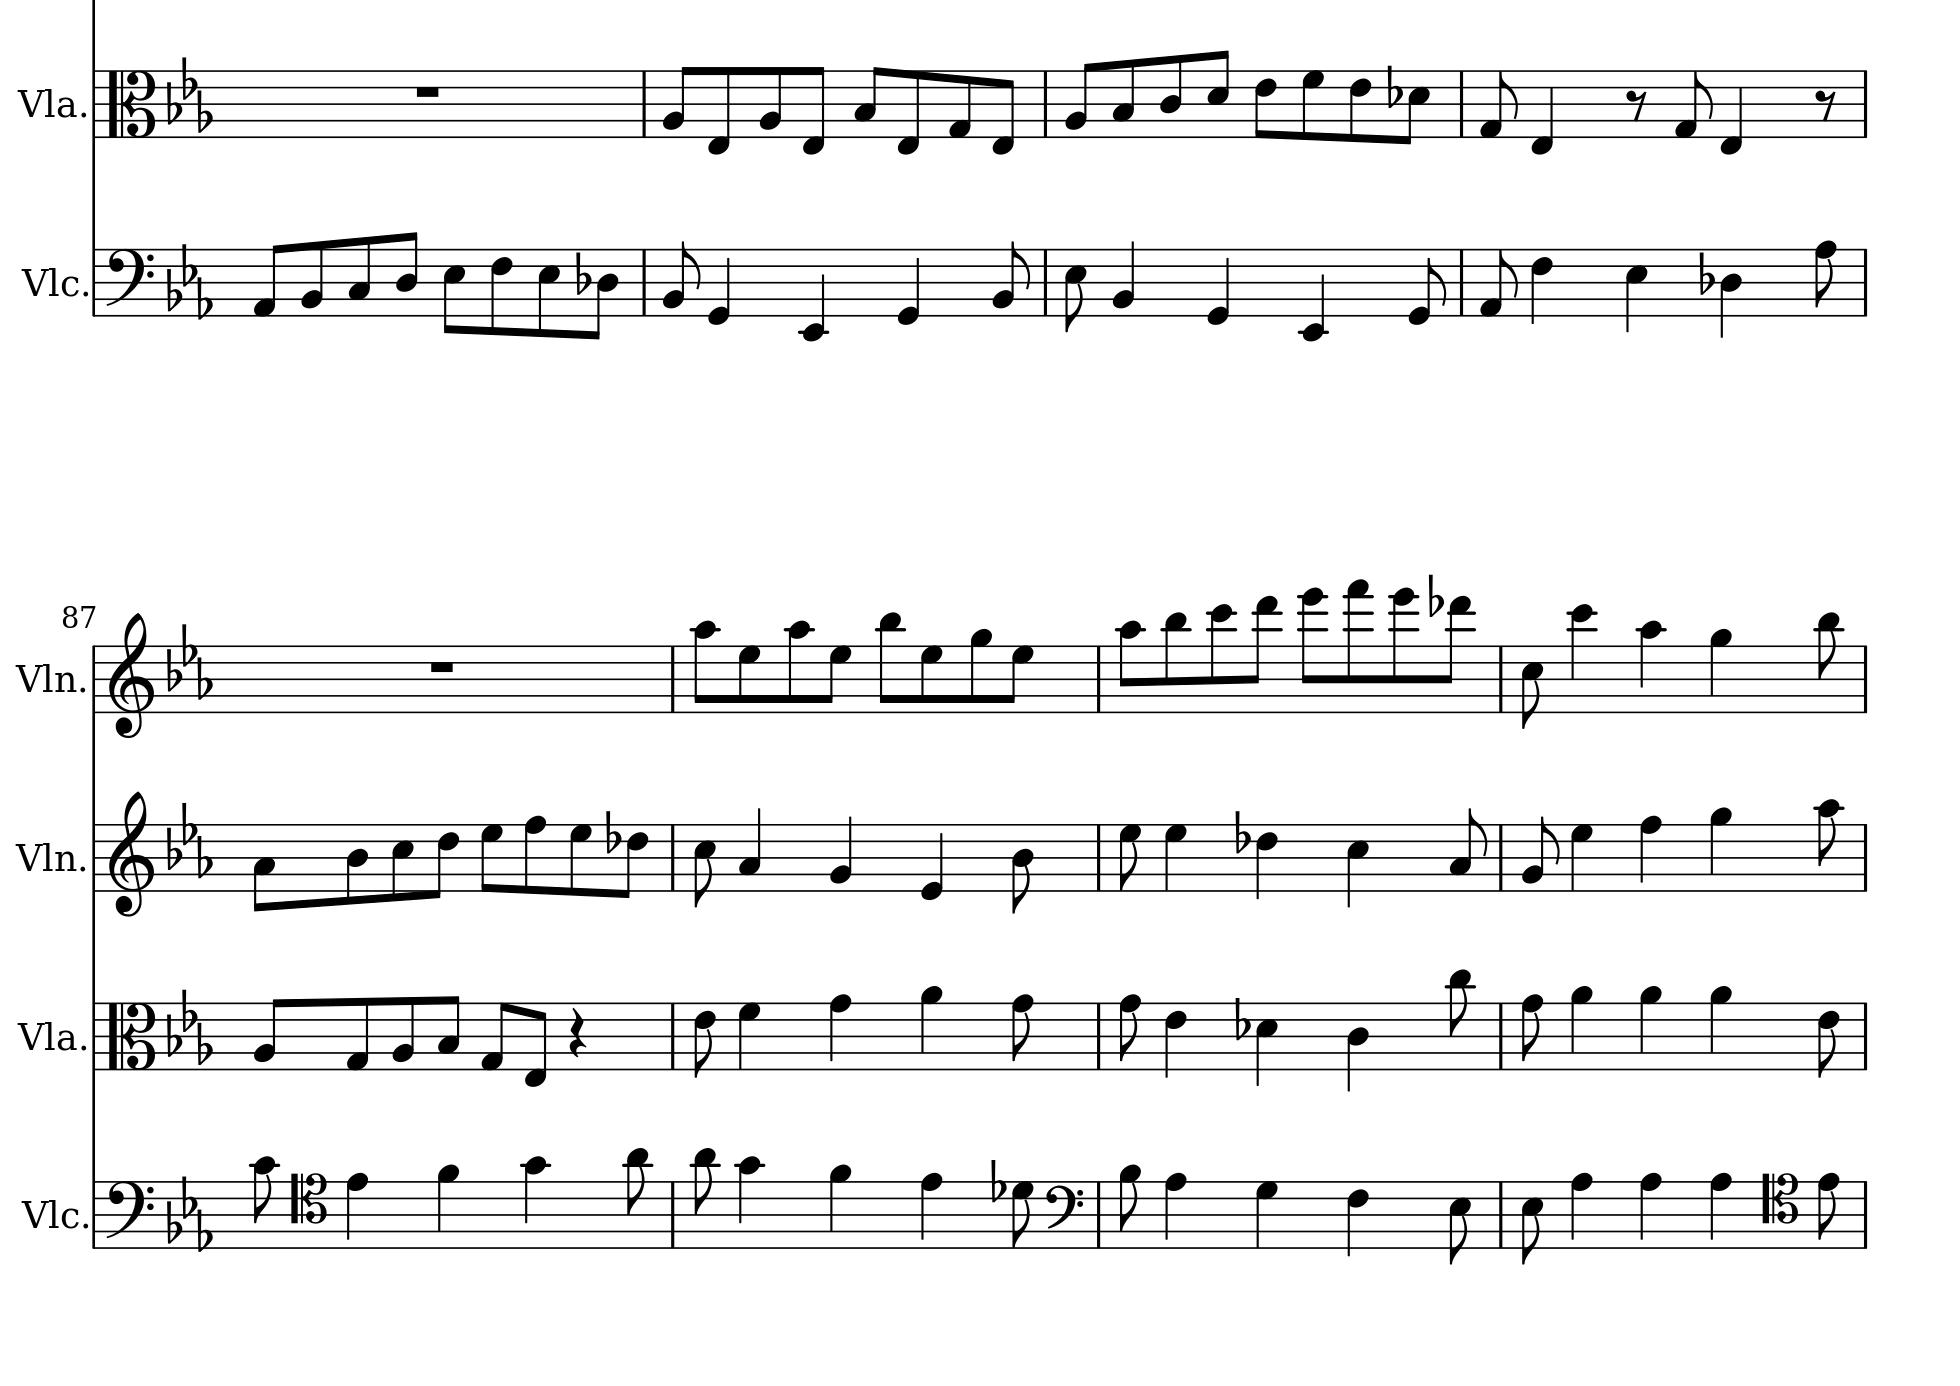16_15: (1344, 577, 1372, 715)
4_-1: (1530, 67, 1555, 157), (1719, 67, 1744, 157)
4_-2: (1299, 246, 1327, 340), (799, 246, 826, 342)
4_0: (706, 246, 733, 327), (1206, 246, 1233, 327), (895, 247, 922, 325), (919, 820, 945, 901)
4_10: (1636, 618, 1666, 715), (520, 1153, 549, 1251), (735, 1153, 763, 1251)
4_12: (1567, 603, 1597, 714)
4_2: (1110, 238, 1137, 319), (829, 814, 855, 894)
4_3: (736, 805, 762, 892)
4_4: (1344, 1000, 1371, 1093), (1719, 247, 1743, 339)
4_5: (1344, 822, 1371, 910), (1254, 1000, 1281, 1089), (1623, 247, 1650, 334)
4_6: (1162, 1000, 1189, 1081), (1345, 1179, 1371, 1260), (1254, 822, 1279, 901), (1530, 246, 1554, 325)
4_7: (1162, 822, 1189, 892), (1569, 822, 1596, 892), (1254, 1179, 1281, 1249), (736, 1000, 762, 1071)
4_8: (1638, 813, 1665, 894), (826, 991, 853, 1072), (918, 1170, 945, 1251), (1162, 1170, 1189, 1251), (343, 1170, 370, 1249), (1638, 1170, 1663, 1251), (1708, 1170, 1734, 1251), (1569, 1170, 1594, 1249)
4_9: (1707, 627, 1734, 715), (1707, 805, 1734, 892), (1569, 984, 1596, 1071), (1707, 984, 1734, 1071), (826, 1162, 853, 1249), (1638, 982, 1663, 1072), (918, 984, 943, 1071), (435, 1162, 460, 1249)
7: (79, 601, 97, 630)
8: (58, 601, 79, 630)
8_-1: (705, 64, 733, 157), (894, 67, 922, 157), (799, 64, 826, 157), (990, 67, 1017, 157), (522, 1000, 549, 1089)
8_0: (1407, 247, 1447, 325)
8_1: (1479, 67, 1519, 139), (1672, 67, 1713, 139), (1479, 247, 1518, 318), (250, 241, 285, 318), (478, 1000, 511, 1072), (343, 994, 372, 1072), (946, 67, 973, 139)
8_10: (1116, 619, 1146, 714), (784, 619, 813, 715), (1815, 796, 1843, 892), (250, 1153, 279, 1249), (691, 619, 718, 714)
8_11: (622, 1144, 652, 1251), (690, 1144, 720, 1251), (876, 610, 904, 715), (1162, 609, 1191, 714), (1815, 610, 1843, 715), (1447, 967, 1476, 1072)
8_12: (1209, 601, 1237, 714)
8_13: (1440, 594, 1476, 715), (1246, 594, 1281, 715)
8_14: (1389, 586, 1419, 712), (1299, 588, 1327, 712)
8_2: (1521, 814, 1560, 892), (661, 240, 700, 316), (991, 240, 1030, 316), (1063, 60, 1095, 139), (661, 64, 694, 139), (253, 996, 285, 1069), (298, 238, 325, 318), (756, 64, 784, 139), (390, 994, 415, 1072)
8_3: (1449, 805, 1488, 892), (250, 820, 277, 913), (852, 64, 883, 139), (346, 235, 373, 318), (1110, 58, 1137, 139), (436, 993, 460, 1072)
8_4: (586, 247, 621, 340), (1009, 822, 1036, 915), (1158, 52, 1185, 139), (345, 822, 370, 906), (394, 229, 418, 318)
8_5: (1399, 67, 1432, 145), (535, 246, 561, 340), (1206, 48, 1231, 139), (441, 246, 466, 336), (1062, 246, 1087, 334), (691, 820, 717, 909), (1519, 1179, 1545, 1267), (1519, 643, 1545, 730), (1447, 1179, 1473, 1266), (390, 820, 415, 901)
8_6: (427, 820, 460, 900), (616, 820, 649, 900), (487, 246, 514, 337), (1815, 1000, 1842, 1080), (1347, 67, 1374, 145), (691, 1000, 717, 1078), (1252, 67, 1278, 139)
8_7: (1003, 643, 1035, 714), (822, 643, 852, 714), (1299, 67, 1326, 142), (567, 822, 592, 898), (736, 643, 762, 714), (478, 822, 504, 892), (1117, 822, 1143, 892), (919, 643, 943, 714), (1011, 1179, 1035, 1249)
8_8: (1815, 1171, 1842, 1249), (522, 814, 547, 895), (1009, 991, 1035, 1072), (1117, 991, 1143, 1072), (1813, 238, 1839, 318), (1519, 991, 1545, 1071)
8_9: (967, 627, 993, 715), (1117, 1162, 1143, 1249)
Cclef: (105, 67, 157, 138), (105, 1000, 157, 1071)
E_F: (165, 54, 213, 133), (163, 1173, 213, 1249), (165, 621, 213, 697), (166, 799, 211, 877), (166, 987, 211, 1065), (166, 241, 211, 318)
Fclef: (103, 244, 157, 318), (103, 1177, 156, 1252), (1044, 1179, 1084, 1251)
Flat: (1696, 249, 1716, 297), (1231, 994, 1251, 1042), (1426, 571, 1444, 619), (1233, 808, 1251, 856), (988, 1156, 1006, 1204), (1384, 63, 1402, 109), (573, 249, 591, 295), (603, 808, 621, 855)
Gclef: (105, 789, 154, 918), (106, 610, 154, 739)
Rests1: (426, 655, 457, 675), (412, 82, 442, 100)
Rests4: (567, 1005, 586, 1060)
Rests8: (1624, 87, 1650, 121), (1815, 87, 1839, 123)
Single_barline: (1089, 645, 1108, 711), (1857, 70, 1875, 136), (1452, 247, 1470, 313), (664, 646, 682, 711), (1857, 643, 1873, 712), (85, 1000, 102, 1069), (85, 70, 102, 138), (1857, 247, 1873, 315), (1857, 823, 1873, 891), (1857, 1002, 1873, 1069), (636, 70, 652, 136), (1453, 70, 1470, 136), (664, 823, 681, 889), (1492, 823, 1509, 889), (1857, 1180, 1873, 1246), (1090, 1180, 1107, 1246), (636, 249, 652, 313), (1492, 646, 1509, 711), (664, 1003, 681, 1068), (1492, 1003, 1509, 1068), (87, 247, 102, 316), (1038, 69, 1053, 136), (1092, 823, 1107, 889), (1092, 1002, 1107, 1068), (1494, 1180, 1509, 1246), (1038, 249, 1053, 313), (664, 1183, 679, 1246), (87, 645, 100, 712), (87, 823, 100, 891), (87, 1180, 100, 1248)
Tensor_Cclef: (289, 1170, 328, 1249), (1761, 1171, 1800, 1249)
Vla: (16, 82, 79, 126), (18, 1014, 76, 1060)
Vlc: (21, 1192, 79, 1234), (19, 261, 79, 301)
Vln: (13, 835, 76, 880), (15, 658, 78, 700)
